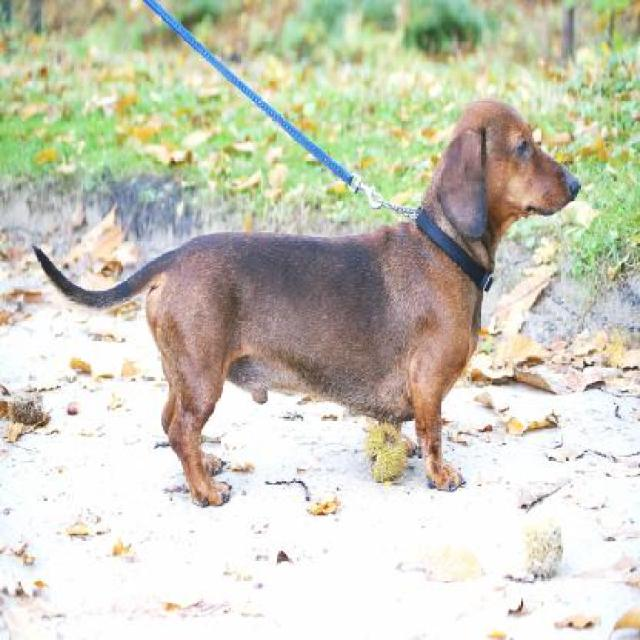Dog: (32, 88, 585, 514)
